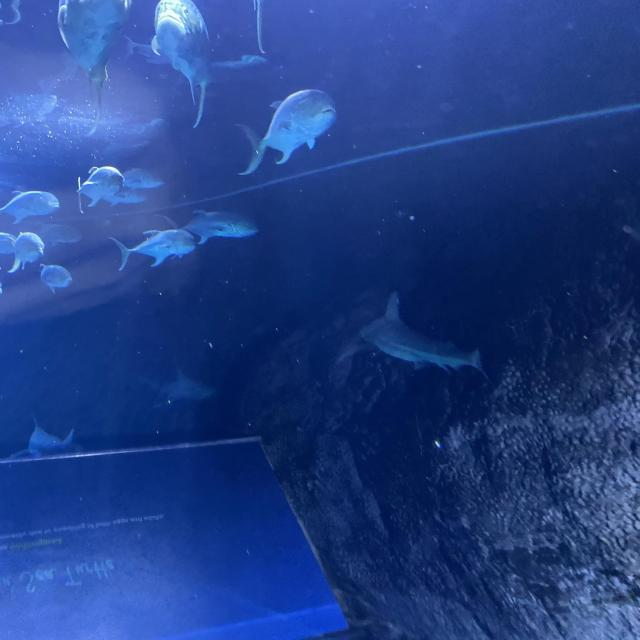fish: (235, 89, 337, 175), (151, 1, 212, 130), (57, 0, 132, 103), (110, 229, 196, 271), (156, 210, 258, 245), (76, 166, 124, 214), (0, 190, 60, 224), (7, 232, 44, 272), (34, 222, 83, 248), (39, 264, 74, 294), (124, 168, 166, 190), (102, 187, 146, 208)
shark: (334, 292, 491, 380), (142, 364, 217, 409), (4, 419, 82, 461)
